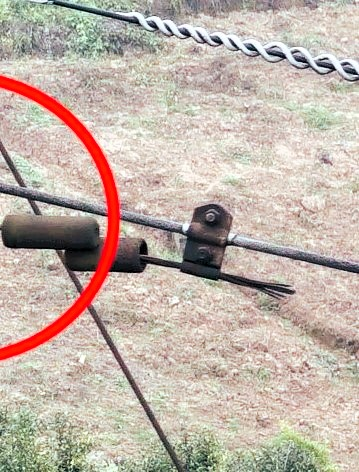Damage of shockproof hammer: (61, 187, 300, 317)
